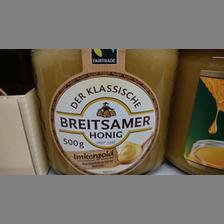Honig: (30, 48, 176, 172)
